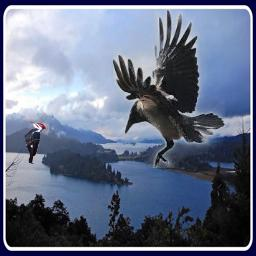Crow: (113, 9, 225, 168)
Woodpecker: (22, 121, 46, 163)
